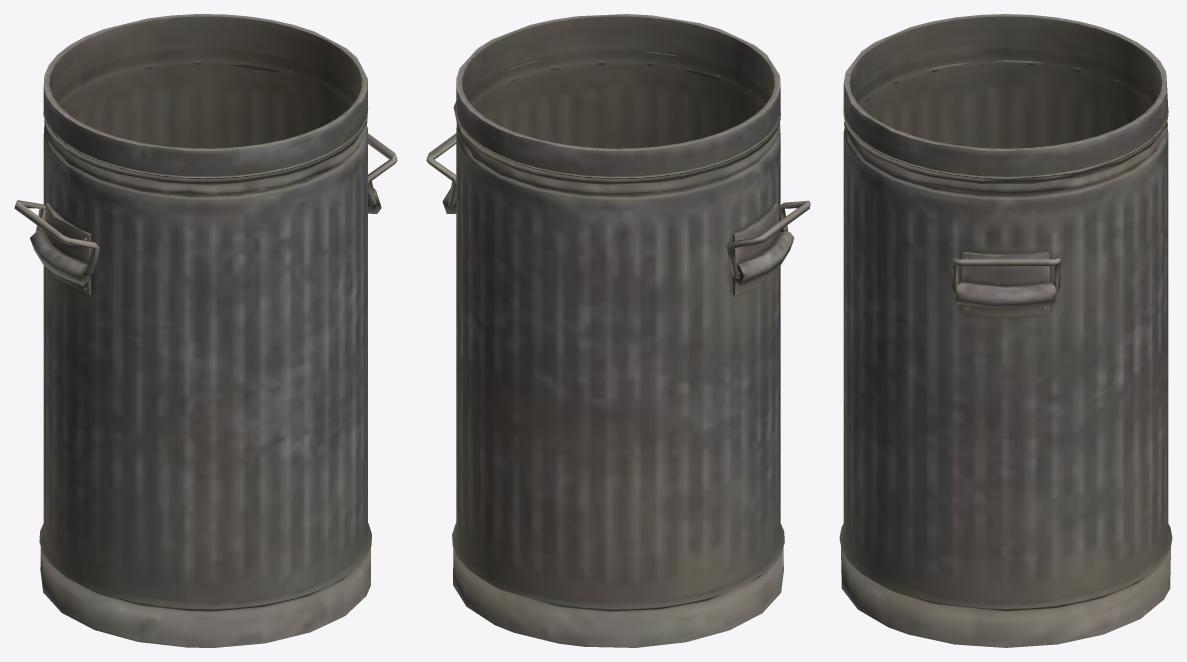
Rendered from trash_can.glb.
The picture shows the model from 3 angles, left to right: view 1: azimuth 30°, elevation 25°; view 2: azimuth 150°, elevation 25°; view 3: azimuth 270°, elevation 25°; orthographic projection.
Parts seen in each view (by area): view 1: metal_trash_can_handle_left; view 2: metal_trash_can_handle_left; view 3: metal_trash_can_handle_left.
Boxes of the visible parts, <box> form: metal_trash_can_handle_left: <box>14,14,397,647</box>; metal_trash_can_handle_left: <box>426,14,810,647</box>; metal_trash_can_handle_left: <box>839,14,1172,647</box>.
Bounding box in the file's own units: 0.6492 × 0.9062 × 0.5524.
Materials: 1 (1 with a texture image).
